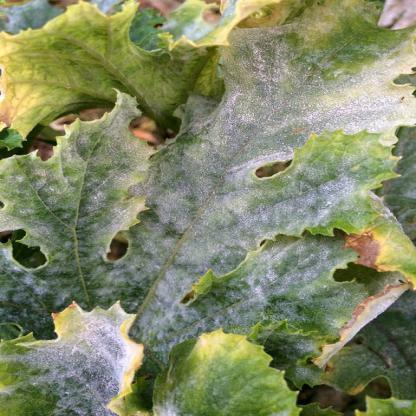Squash Powdery mildew leaf: (5, 3, 415, 414), (5, 295, 148, 411)
